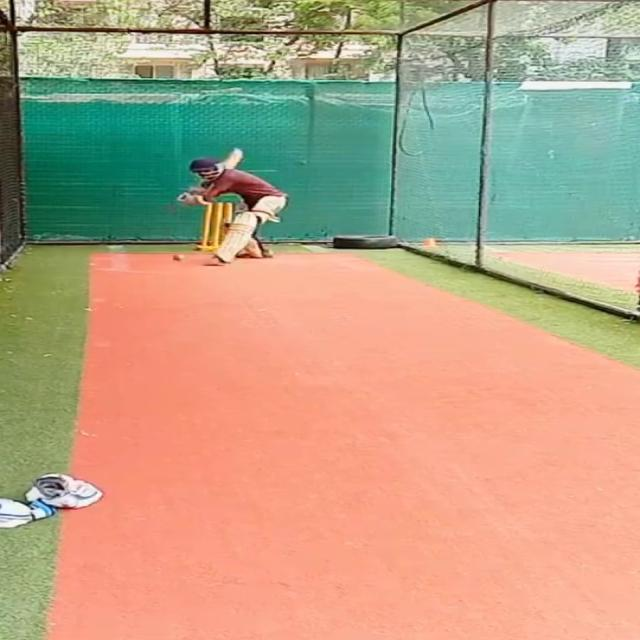ball: (168, 252, 185, 261)
stump: (199, 201, 224, 251)
